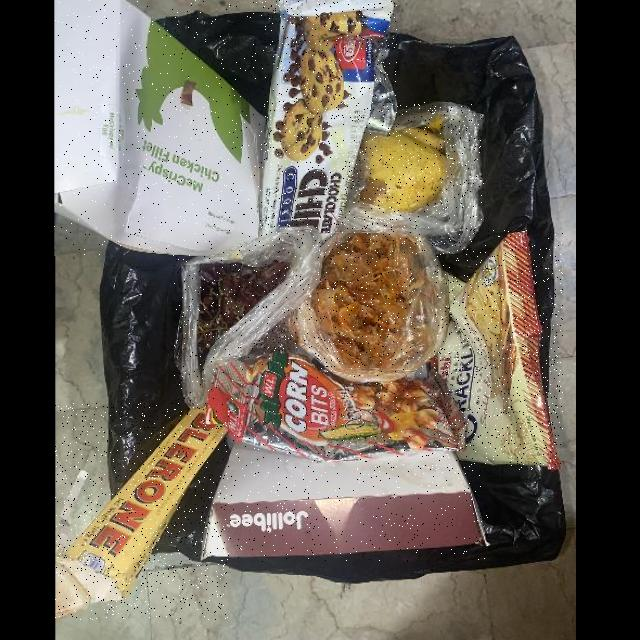biowaste: (313, 233, 415, 367), (197, 260, 292, 385), (354, 118, 447, 213)
paper: (55, 0, 266, 256), (55, 404, 229, 620), (201, 441, 488, 562)
plastic: (174, 225, 323, 412), (340, 102, 484, 254)
wrapper: (261, 0, 397, 246), (433, 230, 563, 470), (202, 351, 468, 463)
